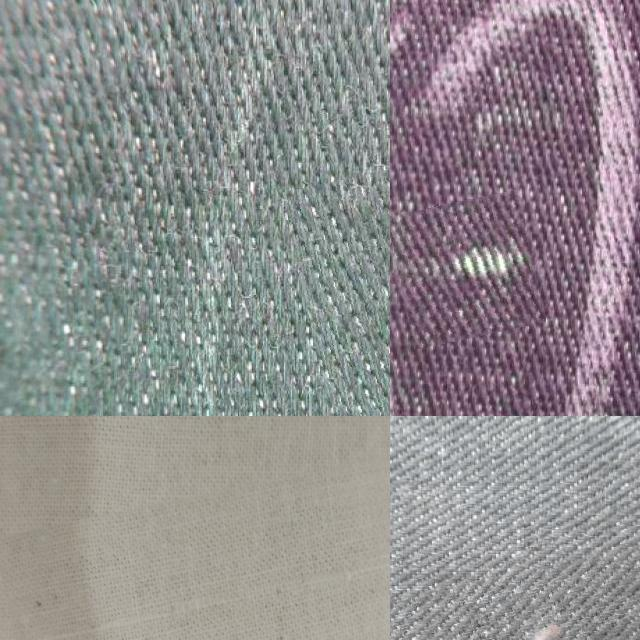Thread_other: (0, 438, 390, 640), (294, 139, 390, 416), (392, 196, 540, 344), (394, 556, 640, 640)
